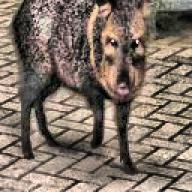boar: (9, 0, 155, 174)
